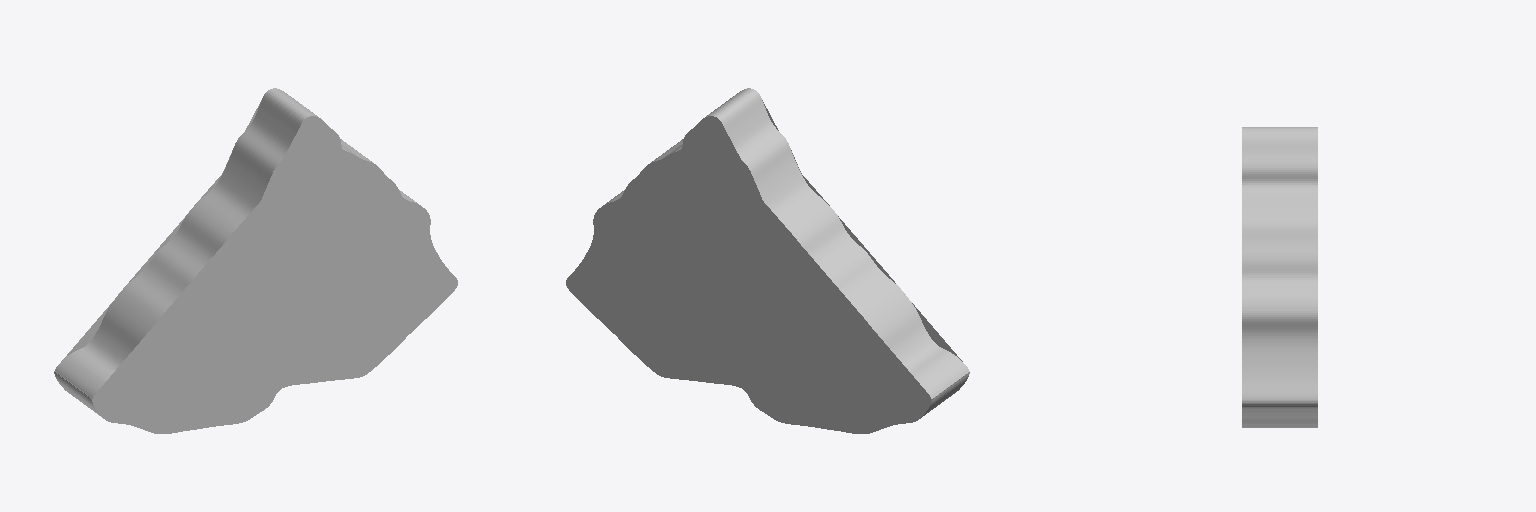
3 renders of one model, left to right at view 1: azimuth 30°, elevation 25°; view 2: azimuth 150°, elevation 25°; view 3: azimuth 270°, elevation 25°, orthographic.
Visible parts, largest first — view 1: 平面; view 2: 平面; view 3: 平面.
Part boxes in pixels (x1,y1,x2,y2): 平面: (54,88,457,433); 平面: (566,88,969,433); 平面: (1242,127,1317,427).
Size of the model in its own units: 1.11 by 0.84 by 0.2.